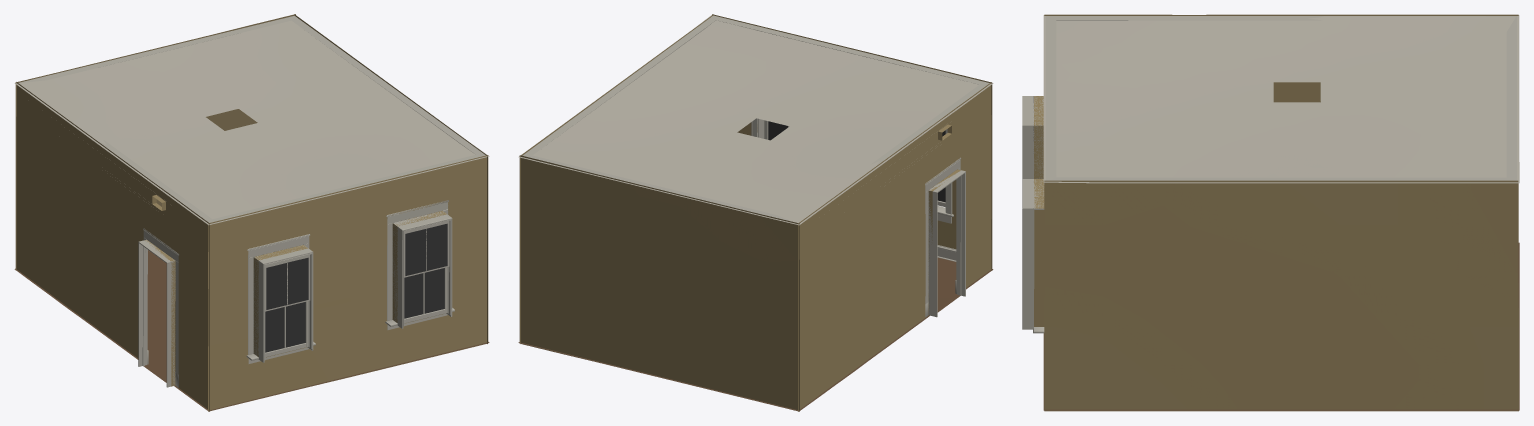
File: house_parlor.glb
3 views of the same model, side by side, from view 1: azimuth 30°, elevation 25°; view 2: azimuth 150°, elevation 25°; view 3: azimuth 270°, elevation 25° (orthographic). The views are drawn at different scales.
Parts seen in each view (by area): view 1: G2, G2_glass_O_G2_S2, G2_glass_O_G2_S1; view 2: G2; view 3: G2.
Boxes of the visible parts, x1=… form: G2: x1=14, y1=14, x2=489, y2=411; G2_glass_O_G2_S2: x1=404, y1=223, x2=447, y2=318; G2_glass_O_G2_S1: x1=265, y1=257, x2=308, y2=352; G2: x1=518, y1=14, x2=993, y2=411; G2: x1=1022, y1=14, x2=1519, y2=411.
Size of the model in its own units: 5.18 by 3.24 by 6.33.
